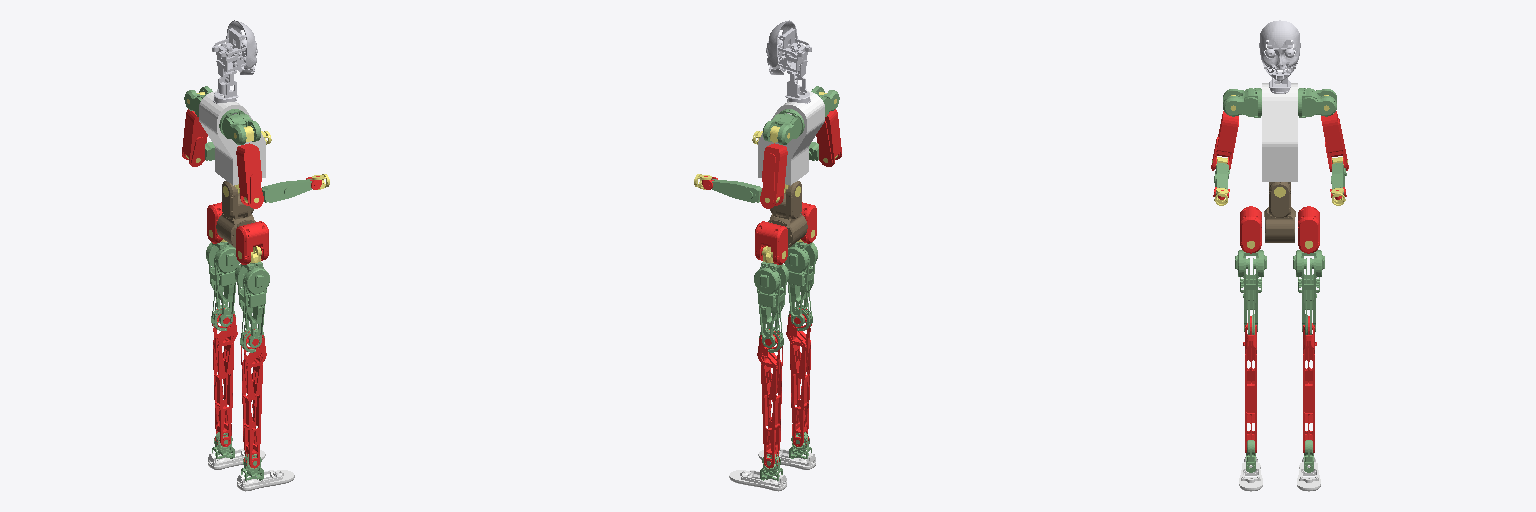
--- Render facts (derived) ---
Views: 3 orthographic renders of the robot side by side, from view 1: azimuth 30°, elevation 25°; view 2: azimuth 150°, elevation 25°; view 3: azimuth 270°, elevation 25°.
Robot: X3_fangsheng — 31 links, 30 joints (28 revolute, 1 fixed, 1 floating); root link world; default pose: every joint at zero.
Visible links, largest first — view 1: head_link, right_knee_link, torso_link, left_knee_link, right_hip_yaw_link, left_hip_yaw_link, right_shoulder_yaw_link, pelvis, right_hip_pitch_link, left_shoulder_yaw_link, right_shoulder_pitch_link, right_wrist_roll_link (+1 smaller); view 2: head_link, left_knee_link, right_knee_link, torso_link, left_hip_yaw_link, right_hip_yaw_link, left_shoulder_yaw_link, pelvis, left_hip_pitch_link, right_shoulder_yaw_link, left_shoulder_pitch_link, left_wrist_roll_link (+1 smaller); view 3: torso_link, head_link, pelvis, right_hip_yaw_link, left_hip_yaw_link, right_knee_link, left_knee_link, right_shoulder_pitch_link, left_shoulder_pitch_link, left_hip_pitch_link, right_hip_pitch_link, left_shoulder_yaw_link (+1 smaller).
Boxes of the visible links, bbox=[...] form: head_link: bbox=[212, 20, 257, 103]; right_knee_link: bbox=[241, 329, 266, 468]; torso_link: bbox=[199, 91, 265, 185]; left_knee_link: bbox=[212, 308, 237, 446]; right_hip_yaw_link: bbox=[235, 262, 269, 352]; left_hip_yaw_link: bbox=[206, 242, 239, 330]; right_shoulder_yaw_link: bbox=[236, 143, 263, 208]; pelvis: bbox=[216, 181, 255, 247]; right_hip_pitch_link: bbox=[236, 221, 268, 264]; left_shoulder_yaw_link: bbox=[182, 109, 207, 166]; right_shoulder_pitch_link: bbox=[219, 109, 260, 144]; right_wrist_roll_link: bbox=[262, 179, 311, 202]; head_link: bbox=[766, 20, 811, 103]; left_knee_link: bbox=[757, 329, 782, 468]; right_knee_link: bbox=[786, 308, 811, 446]; torso_link: bbox=[758, 91, 824, 185]; left_hip_yaw_link: bbox=[754, 262, 788, 352]; right_hip_yaw_link: bbox=[784, 242, 817, 330]; left_shoulder_yaw_link: bbox=[760, 143, 787, 208]; pelvis: bbox=[768, 181, 807, 247]; left_hip_pitch_link: bbox=[755, 221, 787, 264]; right_shoulder_yaw_link: bbox=[816, 109, 841, 166]; left_shoulder_pitch_link: bbox=[763, 109, 804, 144]; left_wrist_roll_link: bbox=[712, 179, 761, 202]; torso_link: bbox=[1262, 83, 1297, 181]; head_link: bbox=[1259, 20, 1300, 93]; pelvis: bbox=[1264, 182, 1295, 242]; right_hip_yaw_link: bbox=[1235, 250, 1266, 334]; left_hip_yaw_link: bbox=[1293, 250, 1324, 334]; right_knee_link: bbox=[1243, 316, 1256, 452]; left_knee_link: bbox=[1303, 316, 1316, 452]; right_shoulder_pitch_link: bbox=[1223, 88, 1261, 117]; left_shoulder_pitch_link: bbox=[1298, 88, 1336, 117]; left_hip_pitch_link: bbox=[1298, 206, 1319, 253]; right_hip_pitch_link: bbox=[1240, 206, 1261, 253]; left_shoulder_yaw_link: bbox=[1321, 111, 1348, 171].
Bounding box of the posed robot: 0.346 × 0.4638 × 1.68 m (x, y, z).
30 mesh visuals loaded from 30 distinct referenced files (30 binary STL).

robot.urdf — X3_fangsheng:
<robot name="X3_fangsheng">

  <mujoco>
    <compiler meshdir="./meshes" discardvisual="false" />
  </mujoco>

  <link name="world"></link>
  <joint name="floating_base_joint" type="floating">
    <parent link="world"/>
    <child link="pelvis"/>
  </joint>

  <link name="pelvis">
    <inertial>
      <origin xyz="0 0 0.08351986" rpy="0 0 0" />
      <mass value="3.5" />
      <inertia ixx="0.01526217" ixy="-0.00001349" ixz="0" iyy="0.01597171" iyz="0.00000484" izz="0.00733448" />
    </inertial>
    <visual>
      <origin xyz="0 0 0" rpy="0 0 0" />
      <geometry>
        <mesh filename="meshes/pelvis.STL" />
      </geometry>
      <material name="">
        <color rgba="0.5451 0.48627 0.4 1" />
      </material>
    </visual>
    <collision>
      <origin xyz="0 0 0" rpy="0 0 0" />
      <geometry>
        <mesh filename="meshes/pelvis.STL" />
      </geometry>
    </collision>
  </link>
  <link name="left_hip_pitch_link">
    <inertial>
      <origin xyz="0 0.04860095 0.00005014" rpy="0 0 0" />
      <mass value="1.3" />
      <inertia ixx="0.00281701" ixy="0" ixz="0" iyy="0.00341346" iyz="0.00001194" izz="0.00217292" />
    </inertial>
    <visual>
      <origin xyz="0 0 0" rpy="0 0 0" />
      <geometry>
        <mesh filename="meshes/left_hip_pitch_link.STL" />
      </geometry>
      <material name="">
        <color rgba="1 0.25098 0.25098 1" />
      </material>
    </visual>
    <collision>
      <origin xyz="0 0 0" rpy="0 0 0" />
      <geometry>
        <mesh filename="meshes/left_hip_pitch_link.STL" />
      </geometry>
    </collision>
  </link>
  <joint name="left_hip_pitch_joint" type="revolute">
    <origin xyz="0 0.0495 0.045" rpy="0 0 0" />
    <parent link="pelvis" />
    <child link="left_hip_pitch_link" />
    <axis xyz="0 1 0" />
    <limit lower="-2.3562" upper="2.3562" effort="75" velocity="6.28" />
  </joint>
  <link name="left_hip_roll_link">
    <inertial>
      <origin xyz="0.00021125 0 -0.00303622" rpy="0 0 0" />
      <mass value="0.2" />
      <inertia ixx="0.00004945" ixy="0" ixz="-0.00000131" iyy="0.00017774" iyz="0.00000000" izz="0.00017655" />
    </inertial>
    <visual>
      <origin xyz="0 0 0" rpy="0 0 0" />
      <geometry>
        <mesh filename="meshes/left_hip_roll_link.STL" />
      </geometry>
      <material name="">
        <color rgba="1 0.96471 0.56078 1" />
      </material>
    </visual>
    <collision>
      <origin xyz="0 0 0" rpy="0 0 0" />
      <geometry>
        <mesh filename="meshes/left_hip_roll_link.STL" />
      </geometry>
    </collision>
  </link>
  <joint name="left_hip_roll_joint" type="revolute">
    <origin xyz="0 0.048 -0.044" rpy="0 0 0" />
    <parent link="left_hip_pitch_link" />
    <child link="left_hip_roll_link" />
    <axis xyz="1 0 0" />
    <limit lower="-0.5236" upper="1.6581" effort="40.2" velocity="5.94" />
  </joint>
  <link name="left_hip_yaw_link">
    <inertial>
      <origin xyz="0.00068945 0.00010574 -0.17146143" rpy="0 0 0" />
      <mass value="1.9" />
      <inertia ixx="0.01856322" ixy="0.00000222" ixz="-0.00011077" iyy="0.01857887" iyz="-0.00001461" izz="0.00185561" />
    </inertial>
    <visual>
      <origin xyz="0 0 0" rpy="0 0 0" />
      <geometry>
        <mesh filename="meshes/left_hip_yaw_link.STL" />
      </geometry>
      <material name="">
        <color rgba="0.56078431372549 0.737254901960784 0.56078431372549 1" />
      </material>
    </visual>
    <!-- <collision>
      <origin xyz="0 0 0" rpy="0 0 0" />
      <geometry>
        <mesh filename="meshes/left_hip_yaw_link.STL" />
      </geometry>
    </collision> -->
  </link>
  <joint name="left_hip_yaw_joint" type="revolute">
    <origin xyz="0 0 0" rpy="0 0 0" />
    <parent link="left_hip_roll_link" />
    <child link="left_hip_yaw_link" />
    <axis xyz="0 0 1" />
    <limit lower="-1.9199" upper="3.1416" effort="40.2" velocity="5.94" />
  </joint>
  <link name="left_knee_link">
    <inertial>
      <origin xyz="0.00345955 0.00006222 -0.1972109" rpy="0 0 0" />
      <mass value="0.8" />
      <inertia ixx="0.01659603" ixy="0.00000058" ixz="0.00039749" iyy="0.01673482" iyz="0.00000554" izz="0.00041309" />
    </inertial>
    <visual>
      <origin xyz="0 0 0" rpy="0 0 0" />
      <geometry>
        <mesh filename="meshes/left_knee_link.STL" />
      </geometry>
      <material name="">
        <color rgba="1 0.250980392156863 0.250980392156863 1" />
      </material>
    </visual>
    <collision>
      <origin xyz="0 0 0" rpy="0 0 0" />
      <geometry>
        <mesh filename="meshes/left_knee_link.STL" />
      </geometry>
    </collision>
  </link>
  <joint name="left_knee_joint" type="revolute">
    <origin xyz="0 0 -0.326" rpy="0 0 0" />
    <parent link="left_hip_yaw_link" />
    <child link="left_knee_link" />
    <axis xyz="0 1 0" />
    <limit lower="0" upper="2.3562" effort="57.2" velocity="15.71" />
  </joint>
  <link name="left_ankle_pitch_link">
    <inertial>
      <origin xyz="0.00221247 -0.00001276 -0.02190971" rpy="0 0 0" />
      <mass value="0.2" />
      <inertia ixx="0.00014574" ixy="-0.0000002" ixz="-0.00001369" iyy="0.00019873" iyz="0.00000003" izz="0.00008856" />
    </inertial>
    <visual>
      <origin xyz="0 0 0" rpy="0 0 0" />
      <geometry>
        <mesh filename="meshes/left_ankle_pitch_link.STL" />
      </geometry>
      <material name="">
        <color rgba="0.56078431372549 0.737254901960784 0.56078431372549 1" />
      </material>
    </visual>
    <collision>
      <origin xyz="0 0 0" rpy="0 0 0" />
      <geometry>
        <mesh filename="meshes/left_ankle_pitch_link.STL" />
      </geometry>
    </collision>
  </link>
  <joint name="left_ankle_pitch_joint" type="revolute">
    <origin xyz="0 0 -0.45" rpy="0 0 0" />
    <parent link="left_knee_link" />
    <child link="left_ankle_pitch_link" />
    <axis xyz="0 1 0" />
    <limit lower="-1.0472" upper="1.0472" effort="39.6" velocity="22.68" />
  </joint>
  <link name="left_ankle_roll_link">
    <inertial>
      <origin xyz="0.04736751 0 -0.02441933" rpy="0 0 0" />
      <mass value="0.6" />
      <inertia ixx="0.00029859" ixy="0" ixz="-0.000078" iyy="0.00240644" iyz="0" izz="0.00261947" />
    </inertial>
    <visual>
      <origin xyz="0 0 0" rpy="0 0 0" />
      <geometry>
        <mesh filename="meshes/left_ankle_roll_link.STL" />
      </geometry>
      <material name="">
        <color rgba="1 1 1 1" />
      </material>
    </visual>
    <collision><origin xyz="-0.035  0.025 -0.035"/><geometry><sphere radius="0.005"/></geometry></collision>
    <collision><origin xyz="-0.035 -0.025 -0.035"/><geometry><sphere radius="0.005"/></geometry></collision>
    <collision><origin xyz="0.12    0.035 -0.035"/><geometry><sphere radius="0.005"/></geometry></collision>
    <collision><origin xyz="0.12   -0.035 -0.035"/><geometry><sphere radius="0.005"/></geometry></collision>
    <collision><origin xyz="0.15  0  -0.035"/><geometry><sphere radius="0.005"/></geometry></collision>
  </link>
  <joint name="left_ankle_roll_joint" type="revolute">
    <origin xyz="0 0 -0.058" rpy="0 0 0" />
    <parent link="left_ankle_pitch_link" />
    <child link="left_ankle_roll_link" />
    <axis xyz="1 0 0" />
    <limit lower="-0.5236" upper="0.5236" effort="16" velocity="4.19" />
  </joint>
  <link name="right_hip_pitch_link">
    <inertial>
      <origin xyz="0 -0.04857639 -0.00005656" rpy="0 0 0" />
      <mass value="1.3" />
      <inertia ixx="0.0028153" ixy="0" ixz="0" iyy="0.00341038" iyz="-0.00001204" izz="0.00217180" />
    </inertial>
    <visual>
      <origin xyz="0 0 0" rpy="0 0 0" />
      <geometry>
        <mesh filename="meshes/right_hip_pitch_link.STL" />
      </geometry>
      <material name="">
        <color rgba="1 0.250980392156863 0.250980392156863 1" />
      </material>
    </visual>
    <collision>
      <origin xyz="0 0 0" rpy="0 0 0" />
      <geometry>
        <mesh filename="meshes/right_hip_pitch_link.STL" />
      </geometry>
    </collision>
  </link>
  <joint name="right_hip_pitch_joint" type="revolute">
    <origin xyz="0 -0.0495 0.045" rpy="0 0 0" />
    <parent link="pelvis" />
    <child link="right_hip_pitch_link" />
    <axis xyz="0 1 0" />
    <limit lower="-2.3562" upper="2.3562" effort="75" velocity="6.28" />
  </joint>
  <link name="right_hip_roll_link">
    <inertial>
      <origin xyz="0.00021125 0 -0.00303638" rpy="0 0 0" />
      <mass value="0.2" />
      <inertia ixx="0.00004945" ixy="0" ixz="-0.00000131" iyy="0.00017774" iyz="0" izz="0.00017655" />
    </inertial>
    <visual>
      <origin xyz="0 0 0" rpy="0 0 0" />
      <geometry>
        <mesh filename="meshes/right_hip_roll_link.STL" />
      </geometry>
      <material name="">
        <color rgba="1 0.964705882352941 0.56078431372549 1" />
      </material>
    </visual>
    <!-- <collision>
      <origin xyz="0 0 0" rpy="0 0 0" />
      <geometry>
        <mesh filename="meshes/right_hip_roll_link.STL" />
      </geometry>
    </collision> -->
  </link>
  <joint name="right_hip_roll_joint" type="revolute">
    <origin xyz="0 -0.048 -0.044" rpy="0 0 0" />
    <parent link="right_hip_pitch_link" />
    <child link="right_hip_roll_link" />
    <axis xyz="1 0 0" />
    <limit lower="-1.6581" upper="0.5236" effort="40.2" velocity="5.94" />
  </joint>
  <link name="right_hip_yaw_link">
    <inertial>
      <origin xyz="0.00068946 -0.00010574 -0.17146142" rpy="0 0 0" />
      <mass value="1.9" />
      <inertia ixx="0.01856324" ixy="-0.00000222" ixz="-0.00011077" iyy="0.0185789" iyz="0.00001461" izz="0.00185561" />
    </inertial>
    <visual>
      <origin xyz="0 0 0" rpy="0 0 0" />
      <geometry>
        <mesh filename="meshes/right_hip_yaw_link.STL" />
      </geometry>
      <material name="">
        <color rgba="0.56078431372549 0.737254901960784 0.56078431372549 1" />
      </material>
    </visual>
    <collision>
      <origin xyz="0 0 0" rpy="0 0 0" />
      <geometry>
        <mesh filename="meshes/right_hip_yaw_link.STL" />
      </geometry>
    </collision>
  </link>
  <joint name="right_hip_yaw_joint" type="revolute">
    <origin xyz="0 0 0" rpy="0 0 0" />
    <parent link="right_hip_roll_link" />
    <child link="right_hip_yaw_link" />
    <axis xyz="0 0 1" />
    <limit lower="-3.1416" upper="1.9199" effort="40.2" velocity="5.94" />
  </joint>
  <link name="right_knee_link">
    <inertial>
      <origin xyz="0.00345968 -0.00006223 -0.19720982" rpy="0 0 0" />
      <mass value="0.8" />
      <inertia ixx="0.01659597" ixy="-0.00000059" ixz="0.0003975" iyy="0.01673476" iyz="-0.00000555" izz="0.00041309" />
    </inertial>
    <visual>
      <origin xyz="0 0 0" rpy="0 0 0" />
      <geometry>
        <mesh filename="meshes/right_knee_link.STL" />
      </geometry>
      <material name="">
        <color rgba="1 0.250980392156863 0.250980392156863 1" />
      </material>
    </visual>
    <collision>
      <origin xyz="0 0 0" rpy="0 0 0" />
      <geometry>
        <mesh filename="meshes/right_knee_link.STL" />
      </geometry>
    </collision>
  </link>
  <joint name="right_knee_joint" type="revolute">
    <origin xyz="0 0 -0.326" rpy="0 0 0" />
    <parent link="right_hip_yaw_link" />
    <child link="right_knee_link" />
    <axis xyz="0 1 0" />
    <limit lower="0" upper="2.3562" effort="57.2" velocity="15.71" />
  </joint>
  <link name="right_ankle_pitch_link">
    <inertial>
      <origin xyz="0.00221243 0.00001275 -0.02190964" rpy="0 0 0" />
      <mass value="0.2" />
      <inertia ixx="0.00014574" ixy="0.00000002" ixz="-0.00001369" iyy="0.00019873" iyz="-0.00000003" izz="0.00008856" />
    </inertial>
    <visual>
      <origin xyz="0 0 0" rpy="0 0 0" />
      <geometry>
        <mesh filename="meshes/right_ankle_pitch_link.STL" />
      </geometry>
      <material name="">
        <color rgba="0.56078431372549 0.737254901960784 0.56078431372549 1" />
      </material>
    </visual>
    <collision>
      <origin xyz="0 0 0" rpy="0 0 0" />
      <geometry>
        <mesh filename="meshes/right_ankle_pitch_link.STL" />
      </geometry>
    </collision>
  </link>
  <joint name="right_ankle_pitch_joint" type="revolute">
    <origin xyz="0 0 -0.45" rpy="0 0 0" />
    <parent link="right_knee_link" />
    <child link="right_ankle_pitch_link" />
    <axis xyz="0 1 0" />
    <limit lower="-1.0472" upper="1.0472" effort="39.6" velocity="22.68" />
  </joint>
  <link name="right_ankle_roll_link">
    <inertial>
      <origin xyz="0.04736751 0 -0.02441933" rpy="0 0 0" />
      <mass value="0.6" />
      <inertia ixx="0.00029859" ixy="0" ixz="-0.000078" iyy="0.00240644" iyz="0" izz="0.00261947" />
    </inertial>
    <visual>
      <origin xyz="0 0 0" rpy="0 0 0" />
      <geometry>
        <mesh filename="meshes/right_ankle_roll_link.STL" />
      </geometry>
      <material name="">
        <color rgba="1 1 1 1" />
      </material>
    </visual>
    <collision><origin xyz="-0.035  0.025 -0.035"/><geometry><sphere radius="0.005"/></geometry></collision>
    <collision><origin xyz="-0.035 -0.025 -0.035"/><geometry><sphere radius="0.005"/></geometry></collision>
    <collision><origin xyz="0.12    0.035 -0.035"/><geometry><sphere radius="0.005"/></geometry></collision>
    <collision><origin xyz="0.12   -0.035 -0.035"/><geometry><sphere radius="0.005"/></geometry></collision>
    <collision><origin xyz="0.15  0  -0.035"/><geometry><sphere radius="0.005"/></geometry></collision>
  </link>
  <joint name="right_ankle_roll_joint" type="revolute">
    <origin xyz="0 0 -0.058" rpy="0 0 0" />
    <parent link="right_ankle_pitch_link" />
    <child link="right_ankle_roll_link" />
    <axis xyz="1 0 0" />
    <limit lower="-0.5236" upper="0.5236" effort="16" velocity="4.19" />
  </joint>
  <link name="waist_roll_link">
    <inertial>
      <origin xyz="-0.00014764 0 0.00213647" rpy="0 0 0" />
      <mass value="0.6" />
      <inertia ixx="0.00016429" ixy="0" ixz="-0.00000282" iyy="0.00056644" iyz="0" izz="0.00056270" />
    </inertial>
    <visual>
      <origin xyz="0 0 0" rpy="0 0 0" />
      <geometry>
        <mesh filename="meshes/waist_roll_link.STL" />
      </geometry>
      <material name="">
        <color rgba="1 0.964705882352941 0.56078431372549 1" />
      </material>
    </visual>
    <!-- <collision>
      <origin xyz="0 0 0" rpy="0 0 0" />
      <geometry>
        <mesh filename="meshes/waist_roll_link.STL" />
      </geometry>
    </collision> -->
  </link>
  <joint name="waist_roll_joint" type="revolute">
    <origin xyz="0 0 0.1955" rpy="0 0 0" />
    <parent link="pelvis" />
    <child link="waist_roll_link" />
    <axis xyz="1 0 0" />
    <limit lower="-0.3491" upper="0.3491" effort="40.2" velocity="5.94" />
  </joint>
  <!-- <link name="waist_yaw_link">
    <inertial>
      <origin xyz="0.000354329163897549 -4.93646790111768E-13 0.0320254954803806" rpy="0 0 0" />
      <mass value="0.2" />
      <inertia ixx="6.30878759973797E-06" ixy="7.44107693320696E-09" ixz="-3.34717609995757E-08" iyy="6.57510130270219E-06" iyz="3.47777473883781E-14" izz="6.47681320149934E-06" />
    </inertial>
    <visual>
      <origin xyz="0 0 0" rpy="0 0 0" />
      <geometry>
        <mesh filename="meshes/waist_yaw_link.STL" />
      </geometry>
      <material name="">
        <color rgba="1 0.854901960784314 0.725490196078431 1" />
      </material>
    </visual>
    <collision>
      <origin xyz="0 0 0" rpy="0 0 0" />
      <geometry>
        <mesh filename="meshes/waist_yaw_link.STL" />
      </geometry>
    </collision>
  </link> -->
  <link name="torso_link">
    <inertial>
      <origin xyz="-0.00801867 0 0.17548134" rpy="0 0 0" />
      <mass value="4.5" />
      <inertia ixx="0.03312582" ixy="0" ixz="-0.006658" iyy="0.03653575" iyz="0" izz="0.01483247" />
    </inertial>
    <visual>
      <origin xyz="0 0 0" rpy="0 0 0" />
      <geometry>
        <mesh filename="meshes/torso_link.STL" />
      </geometry>
      <material name="">
        <color rgba="1 1 1 1" />
      </material>
    </visual>
    <collision>
      <origin xyz="0 0 0" rpy="0 0 0" />
      <geometry>
        <mesh filename="meshes/torso_link.STL" />
      </geometry>
    </collision>
  </link>
  <joint name="waist_yaw_joint" type="revolute">
    <origin xyz="0 0 0" rpy="0 0 0" />
    <parent link="waist_roll_link" />
    <child link="torso_link" />
    <axis xyz="0 0 1" />
    <limit lower="-1.8326" upper="1.8326" effort="40.2" velocity="5.94" />
  </joint>
  <link name="left_shoulder_pitch_link">
    <inertial>
      <origin xyz="-2.06536214797381E-08 0.0365811640530439 -7.17334390765156E-06" rpy="0 0 0" />
      <mass value="1" />
      <inertia ixx="0.000813360139552415" ixy="-2.31945955883485E-12" ixz="-4.39892027872696E-11" iyy="0.000447222882795956" iyz="1.02916067439702E-07" izz="0.00084369594864673" />
    </inertial>
    <visual>
      <origin xyz="0 0 0" rpy="0 0 0" />
      <geometry>
        <mesh filename="meshes/left_shoulder_pitch_link.STL" />
      </geometry>
      <material name="">
        <color rgba="0.56078431372549 0.737254901960784 0.56078431372549 1" />
      </material>
    </visual>
    <collision>
      <origin xyz="0 0 0" rpy="0 0 0" />
      <geometry>
        <mesh filename="meshes/left_shoulder_pitch_link.STL" />
      </geometry>
    </collision>
  </link>
  <joint name="left_shoulder_pitch_joint" type="revolute">
    <origin xyz="-0.058001 0.06201 0.284" rpy="0 0 0" />
    <parent link="torso_link" />
    <child link="left_shoulder_pitch_link" />
    <axis xyz="0 1 0" />
    <limit lower="-3.1416" upper="1.5708" effort="50" velocity="12.51" />
  </joint>
  <link name="left_shoulder_roll_link">
    <inertial>
      <origin xyz="0 0.00007351 -0.00201604" rpy="0 0 0" />
      <mass value="0.2" />
      <inertia ixx="0.00005098" ixy="0" ixz="0" iyy="0.00009482" iyz="-0.00000038" izz="0.00009243" />
    </inertial>
    <visual>
      <origin xyz="0 0 0" rpy="0 0 0" />
      <geometry>
        <mesh filename="meshes/left_shoulder_roll_link.STL" />
      </geometry>
      <material name="">
        <color rgba="1 0.964705882352941 0.56078431372549 1" />
      </material>
    </visual>
    <collision>
      <origin xyz="0 0 0" rpy="0 0 0" />
      <geometry>
        <mesh filename="meshes/left_shoulder_roll_link.STL" />
      </geometry>
    </collision>
  </link>
  <joint name="left_shoulder_roll_joint" type="revolute">
    <origin xyz="0 0.09499 0" rpy="0.17453 0 0" />
    <parent link="left_shoulder_pitch_link" />
    <child link="left_shoulder_roll_link" />
    <axis xyz="1 0 0" />
    <limit lower="-0.1745" upper="3.0543" effort="22.6" velocity="6.08" />
  </joint>
  <link name="left_shoulder_yaw_link">
    <inertial>
      <origin xyz="-0.00122991 0.00070760 -0.13323627" rpy="0 0 0" />
      <mass value="1.8" />
      <inertia ixx="0.00529740" ixy="0.00000157" ixz="0.00012836" iyy="0.00524152" iyz="0.00002212" izz="0.00107032" />
    </inertial>
    <visual>
      <origin xyz="0 0 0" rpy="0 0 0" />
      <geometry>
        <mesh filename="meshes/left_shoulder_yaw_link.STL" />
      </geometry>
      <material name="">
        <color rgba="1 0.250980392156863 0.250980392156863 1" />
      </material>
    </visual>
    <collision>
      <origin xyz="0 0 0" rpy="0 0 0" />
      <geometry>
        <mesh filename="meshes/left_shoulder_yaw_link.STL" />
      </geometry>
    </collision>
  </link>
  <joint name="left_shoulder_yaw_joint" type="revolute">
    <origin xyz="0 0 0" rpy="0 0 0" />
    <parent link="left_shoulder_roll_link" />
    <child link="left_shoulder_yaw_link" />
    <axis xyz="0 0 1" />
    <limit lower="-2.0071" upper="2.0071" effort="22.6" velocity="6.08" />
  </joint>
  <link name="left_elbow_link">
    <inertial>
      <origin xyz="0.0022833 0 0.00008326" rpy="0 0 0" />
      <mass value="0.2" />
      <inertia ixx="0.00006712" ixy="0" ixz="-0.00000043" iyy="0.00005629" iyz="0" izz="0.00006971" />
    </inertial>
    <visual>
      <origin xyz="0 0 0" rpy="0 0 0" />
      <geometry>
        <mesh filename="meshes/left_elbow_link.STL" />
      </geometry>
      <material name="">
        <color rgba="1 0.96471 0.56078 1" />
      </material>
    </visual>
    <collision>
      <origin xyz="0 0 0" rpy="0 0 0" />
      <geometry>
        <mesh filename="meshes/left_elbow_link.STL" />
      </geometry>
    </collision>
  </link>
  <joint name="left_elbow_joint" type="revolute">
    <origin xyz="0 0 -0.23" rpy="0 0 0" />
    <parent link="left_shoulder_yaw_link" />
    <child link="left_elbow_link" />
    <axis xyz="0 1 0" />
    <limit lower="-0.4363" upper="1.5708" effort="18.8" velocity="7.33" />
  </joint>
  <link name="left_wrist_roll_link">
    <inertial>
      <origin xyz="0.12524011 0.00023629 0" rpy="0 0 0" />
      <mass value="0.8" />
      <inertia ixx="0.0002372" ixy="-0.00002115" ixz="0" iyy="0.00220764" iyz="0" izz="0.00217799" />
    </inertial>
    <visual>
      <origin xyz="0 0 0" rpy="0 0 0" />
      <geometry>
        <mesh filename="meshes/left_wrist_roll_link.STL" />
      </geometry>
      <material name="">
        <color rgba="0.56078431372549 0.737254901960784 0.56078431372549 1" />
      </material>
    </visual>
    <collision>
      <origin xyz="0 0 0" rpy="0 0 0" />
      <geometry>
        <mesh filename="meshes/left_wrist_roll_link.STL" />
      </geometry>
    </collision>
  </link>
  <joint name="left_wrist_roll_joint" type="revolute">
    <origin xyz="0 0 0" rpy="0 0 0" />
    <parent link="left_elbow_link" />
    <child link="left_wrist_roll_link" />
    <axis xyz="1 0 0" />
    <limit lower="-2.0071" upper="2.0071" effort="18.8" velocity="7.33" />
  </joint>
  <link name="left_wrist_pitch_link">
    <inertial>
      <origin xyz="0.00731112 0 0" rpy="0 0 0" />
      <mass value="0.1" />
      <inertia ixx="0.000027" ixy="0" ixz="0" iyy="0.00002011" iyz="0" izz="0.00003522" />
    </inertial>
    <visual>
      <origin xyz="0 0 0" rpy="0 0 0" />
      <geometry>
        <mesh filename="meshes/left_wrist_pitch_link.STL" />
      </geometry>
      <material name="">
        <color rgba="1 0.250980392156863 0.250980392156863 1" />
      </material>
    </visual>
    <collision>
      <origin xyz="0 0 0" rpy="0 0 0" />
      <geometry>
        <mesh filename="meshes/left_wrist_pitch_link.STL" />
      </geometry>
    </collision>
  </link>
  <joint name="left_wrist_pitch_joint" type="revolute">
    <origin xyz="0.23522 0 0" rpy="0 0 0" />
    <parent link="left_wrist_roll_link" />
    <child link="left_wrist_pitch_link" />
    <axis xyz="0 1 0" />
    <limit lower="-0.6981" upper="0.6981" effort="2.8" velocity="18.74" />
  </joint>
  <link name="left_wrist_yaw_link">
    <inertial>
      <origin xyz="0.00799787 0 0.00020296" rpy="0 0 0" />
      <mass value="0.1" />
      <inertia ixx="0.0000385" ixy="0" ixz="-0.00000075" iyy="0.00004629" iyz="0" izz="0.00003530" />
    </inertial>
    <visual>
      <origin xyz="0 0 0" rpy="0 0 0" />
      <geometry>
        <mesh filename="meshes/left_wrist_yaw_link.STL" />
      </geometry>
      <material name="">
        <color rgba="1 0.964705882352941 0.56078431372549 1" />
      </material>
    </visual>
    <!-- <collision>
      <origin xyz="0 0 0" rpy="0 0 0" />
      <geometry>
        <mesh filename="meshes/left_wrist_yaw_link.STL" />
      </geometry>
    </collision> -->
    <collision>
      <origin xyz="0.028 0 0" rpy="0 1.5708 0"/>
      <geometry>
          <cylinder radius="0.02" length="0.01"/>
      </geometry>
    </collision>
  </link>
  <joint name="left_wrist_yaw_joint" type="revolute">
    <origin xyz="0.021282 0 0" rpy="0 0 0" />
    <parent link="left_wrist_pitch_link" />
    <child link="left_wrist_yaw_link" />
    <axis xyz="0 0 1" />
    <limit lower="-0.8727" upper="0.8727" effort="3.4" velocity="15.47" />
  </joint>
  <link name="right_shoulder_pitch_link">
    <inertial>
      <origin xyz="-2.06657144730116E-08 -0.03660202242416 7.17335351818615E-06" rpy="0 0 0" />
      <mass value="1" />
      <inertia ixx="0.000813360139854508" ixy="2.25741457710045E-12" ixz="4.39436133708225E-11" iyy="0.000447222882925012" iyz="1.02915918238106E-07" izz="0.000843695948834035" />
    </inertial>
    <visual>
      <origin xyz="0 0 0" rpy="0 0 0" />
      <geometry>
        <mesh filename="meshes/right_shoulder_pitch_link.STL" />
      </geometry>
      <material name="">
        <color rgba="0.56078431372549 0.737254901960784 0.56078431372549 1" />
      </material>
    </visual>
    <collision>
      <origin xyz="0 0 0" rpy="0 0 0" />
      <geometry>
        <mesh filename="meshes/right_shoulder_pitch_link.STL" />
      </geometry>
    </collision>
  </link>
  <joint name="right_shoulder_pitch_joint" type="revolute">
    <origin xyz="-0.058001 -0.06199 0.284" rpy="0 0 0" />
    <parent link="torso_link" />
    <child link="right_shoulder_pitch_link" />
    <axis xyz="0 1 0" />
    <limit lower="-3.1416" upper="1.5708" effort="50" velocity="12.51" />
  </joint>
  <link name="right_shoulder_roll_link">
    <inertial>
      <origin xyz="0 0.00007351 -0.00201604" rpy="0 0 0" />
      <mass value="0.2" />
      <inertia ixx="0.00005098" ixy="0" ixz="0" iyy="0.00009482" iyz="-0.00000038" izz="0.00009243" />
    </inertial>
    <visual>
      <origin xyz="0 0 0" rpy="0 0 0" />
      <geometry>
        <mesh filename="meshes/right_shoulder_roll_link.STL" />
      </geometry>
      <material name="">
        <color rgba="1 0.964705882352941 0.56078431372549 1" />
      </material>
    </visual>
    <collision>
      <origin xyz="0 0 0" rpy="0 0 0" />
      <geometry>
        <mesh filename="meshes/right_shoulder_roll_link.STL" />
      </geometry>
    </collision>
  </link>
  <joint name="right_shoulder_roll_joint" type="revolute">
    <origin xyz="0 -0.09501 0" rpy="-0.17453 0 0" />
    <parent link="right_shoulder_pitch_link" />
    <child link="right_shoulder_roll_link" />
    <axis xyz="1 0 0" />
    <limit lower="-3.0543" upper="0.1745" effort="22.6" velocity="6.08" />
  </joint>
  <link name="right_shoulder_yaw_link">
    <inertial>
      <origin xyz="-0.00122991 0.00070760 -0.13323627" rpy="0 0 0" />
      <mass value="1.8" />
      <inertia ixx="0.00529740" ixy="0.00000157" ixz="0.00012836" iyy="0.00524152" iyz="0.00002212" izz="0.00107032" />
    </inertial>
    <visual>
      <origin xyz="0 0 0" rpy="0 0 0" />
      <geometry>
        <mesh filename="meshes/right_shoulder_yaw_link.STL" />
      </geometry>
      <material name="">
        <color rgba="1 0.250980392156863 0.250980392156863 1" />
      </material>
    </visual>
    <collision>
      <origin xyz="0 0 0" rpy="0 0 0" />
      <geometry>
        <mesh filename="meshes/right_shoulder_yaw_link.STL" />
      </geometry>
    </collision>
  </link>
  <joint name="right_shoulder_yaw_joint" type="revolute">
    <origin xyz="0 0 0" rpy="0 0 0" />
    <parent link="right_shoulder_roll_link" />
    <child link="right_shoulder_yaw_link" />
    <axis xyz="0 0 1" />
    <limit lower="-2.0071" upper="2.0071" effort="22.6" velocity="6.08" />
  </joint>
  <link name="right_elbow_link">
    <inertial>
      <origin xyz="0.00228330 0 -0.00008326" rpy="0 0 0" />
      <mass value="0.2" />
      <inertia ixx="0.00006712" ixy="0" ixz="-0.00000043" iyy="0.00005629" iyz="0" izz="0.00006971" />
    </inertial>
    <visual>
      <origin xyz="0 0 0" rpy="0 0 0" />
      <geometry>
        <mesh filename="meshes/right_elbow_link.STL" />
      </geometry>
      <material name="">
        <color rgba="1 0.964705882352941 0.56078431372549 1" />
      </material>
    </visual>
    <collision>
      <origin xyz="0 0 0" rpy="0 0 0" />
      <geometry>
        <mesh filename="meshes/right_elbow_link.STL" />
      </geometry>
    </collision>
  </link>
  <joint name="right_elbow_joint" type="revolute">
    <origin xyz="0 0 -0.23" rpy="0 0 0" />
    <parent link="right_shoulder_yaw_link" />
    <child link="right_elbow_link" />
    <axis xyz="0 1 0" />
    <limit lower="-0.4363" upper="1.5708" effort="18.8" velocity="6.08" />
  </joint>
  <link name="right_wrist_roll_link">
    <inertial>
      <origin xyz="0.12524011 0.00023629 0" rpy="0 0 0" />
      <mass value="0.8" />
      <inertia ixx="0.00023720" ixy="-0.00002115" ixz="0" iyy="0.00220764" iyz="0" izz="0.00217799" />
    </inertial>
    <visual>
      <origin xyz="0 0 0" rpy="0 0 0" />
      <geometry>
        <mesh filename="meshes/right_wrist_roll_link.STL" />
      </geometry>
      <material name="">
        <color rgba="0.56078431372549 0.737254901960784 0.56078431372549 1" />
      </material>
    </visual>
    <collision>
      <origin xyz="0 0 0" rpy="0 0 0" />
      <geometry>
        <mesh filename="meshes/right_wrist_roll_link.STL" />
      </geometry>
    </collision>
  </link>
  <joint name="right_wrist_roll_joint" type="revolute">
    <origin xyz="0 0 0" rpy="0 0 0" />
    <parent link="right_elbow_link" />
    <child link="right_wrist_roll_link" />
    <axis xyz="1 0 0" />
    <limit lower="-2.0071" upper="2.0071" effort="18.8" velocity="7.33" />
  </joint>
  <link name="right_wrist_pitch_link">
    <inertial>
      <origin xyz="0.00752937 0 0" rpy="0 0 0" />
      <mass value="0.1" />
      <inertia ixx="0.000027" ixy="0" ixz="0" iyy="0.00002011" iyz="0" izz="0.00003522" />
    </inertial>
    <visual>
      <origin xyz="0 0 0" rpy="0 0 0" />
      <geometry>
        <mesh filename="meshes/right_wrist_pitch_link.STL" />
      </geometry>
      <material name="">
        <color rgba="1 0.250980392156863 0.250980392156863 1" />
      </material>
    </visual>
    <collision>
      <origin xyz="0 0 0" rpy="0 0 0" />
      <geometry>
        <mesh filename="meshes/right_wrist_pitch_link.STL" />
      </geometry>
    </collision>
  </link>
  <joint name="right_wrist_pitch_joint" type="revolute">
    <origin xyz="0.235 0 0" rpy="0 0 0" />
    <parent link="right_wrist_roll_link" />
    <child link="right_wrist_pitch_link" />
    <axis xyz="0 1 0" />
    <limit lower="-0.6981" upper="0.6981" effort="2.8" velocity="18.74" />
  </joint>
  <link name="right_wrist_yaw_link">
    <inertial>
      <origin xyz="0.00799787 0 0.00020296" rpy="0 0 0" />
      <mass value="0.1" />
      <inertia ixx="0.0000385" ixy="0" ixz="-0.00000075" iyy="0.00004629" iyz="0" izz="0.00003530" />
    </inertial>
    <visual>
      <origin xyz="0 0 0" rpy="0 0 0" />
      <geometry>
        <mesh filename="meshes/right_wrist_yaw_link.STL" />
      </geometry>
      <material name="">
        <color rgba="1 0.964705882352941 0.56078431372549 1" />
      </material>
    </visual>
    <!-- <collision>
      <origin xyz="0 0 0" rpy="0 0 0" />
      <geometry>
        <mesh filename="meshes/right_wrist_yaw_link.STL" />
      </geometry>
    </collision> -->
    <collision>
      <origin xyz="0.028 0 0" rpy="0 1.5708 0"/>
      <geometry>
          <cylinder radius="0.02" length="0.01"/>
      </geometry>
    </collision>
  </link>
  <joint name="right_wrist_yaw_joint" type="revolute">
    <origin xyz="0.0215 0 0" rpy="0 0 0" />
    <parent link="right_wrist_pitch_link" />
    <child link="right_wrist_yaw_link" />
    <axis xyz="0 0 1" />
    <limit lower="-0.8727" upper="0.8727" effort="3.4" velocity="15.47" />
  </joint>
  <link name="head_link">
    <inertial>
      <origin xyz="0.0384570584651063 0.000566718427255128 0.136091978170857" rpy="0 0 0" />
      <mass value="1" />
      <inertia ixx="0.000625692677071135" ixy="4.18028610167731E-07" ixz="5.40772452097349E-05" iyy="0.000733341762659216" iyz="-4.58761772644072E-07" izz="0.000534801017927463" />
    </inertial>
    <visual>
      <origin xyz="0 0 0" rpy="0 0 0" />
      <geometry>
        <mesh filename="meshes/head_link.STL" />
      </geometry>
      <material name="">
        <color rgba="0.886274509803922 0.886274509803922 0.913725490196078 1" />
      </material>
    </visual>
    <collision>
      <origin xyz="0 0 0" rpy="0 0 0" />
      <geometry>
        <mesh filename="meshes/head_link.STL" />
      </geometry>
    </collision>
  </link>
  <joint name="head_joint" type="fixed">
    <origin xyz="-0.050896 0 0.3365" rpy="0 1.2713E-05 0" />
    <parent link="torso_link" />
    <child link="head_link" />
    <axis xyz="0 0 0" />
  </joint>
</robot>
